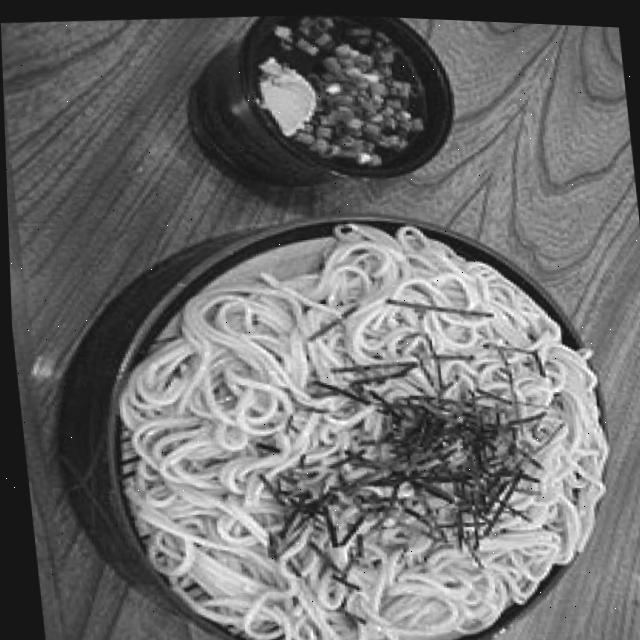面条主食: (36, 163, 640, 640)
